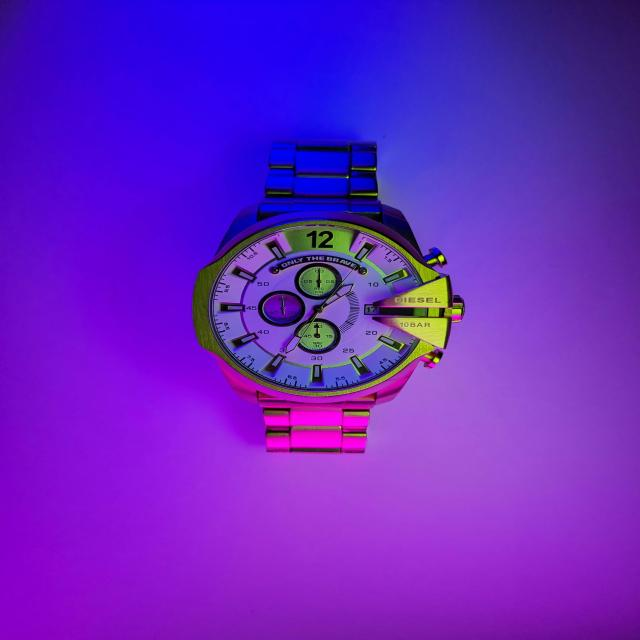relogio: (189, 137, 469, 455)
